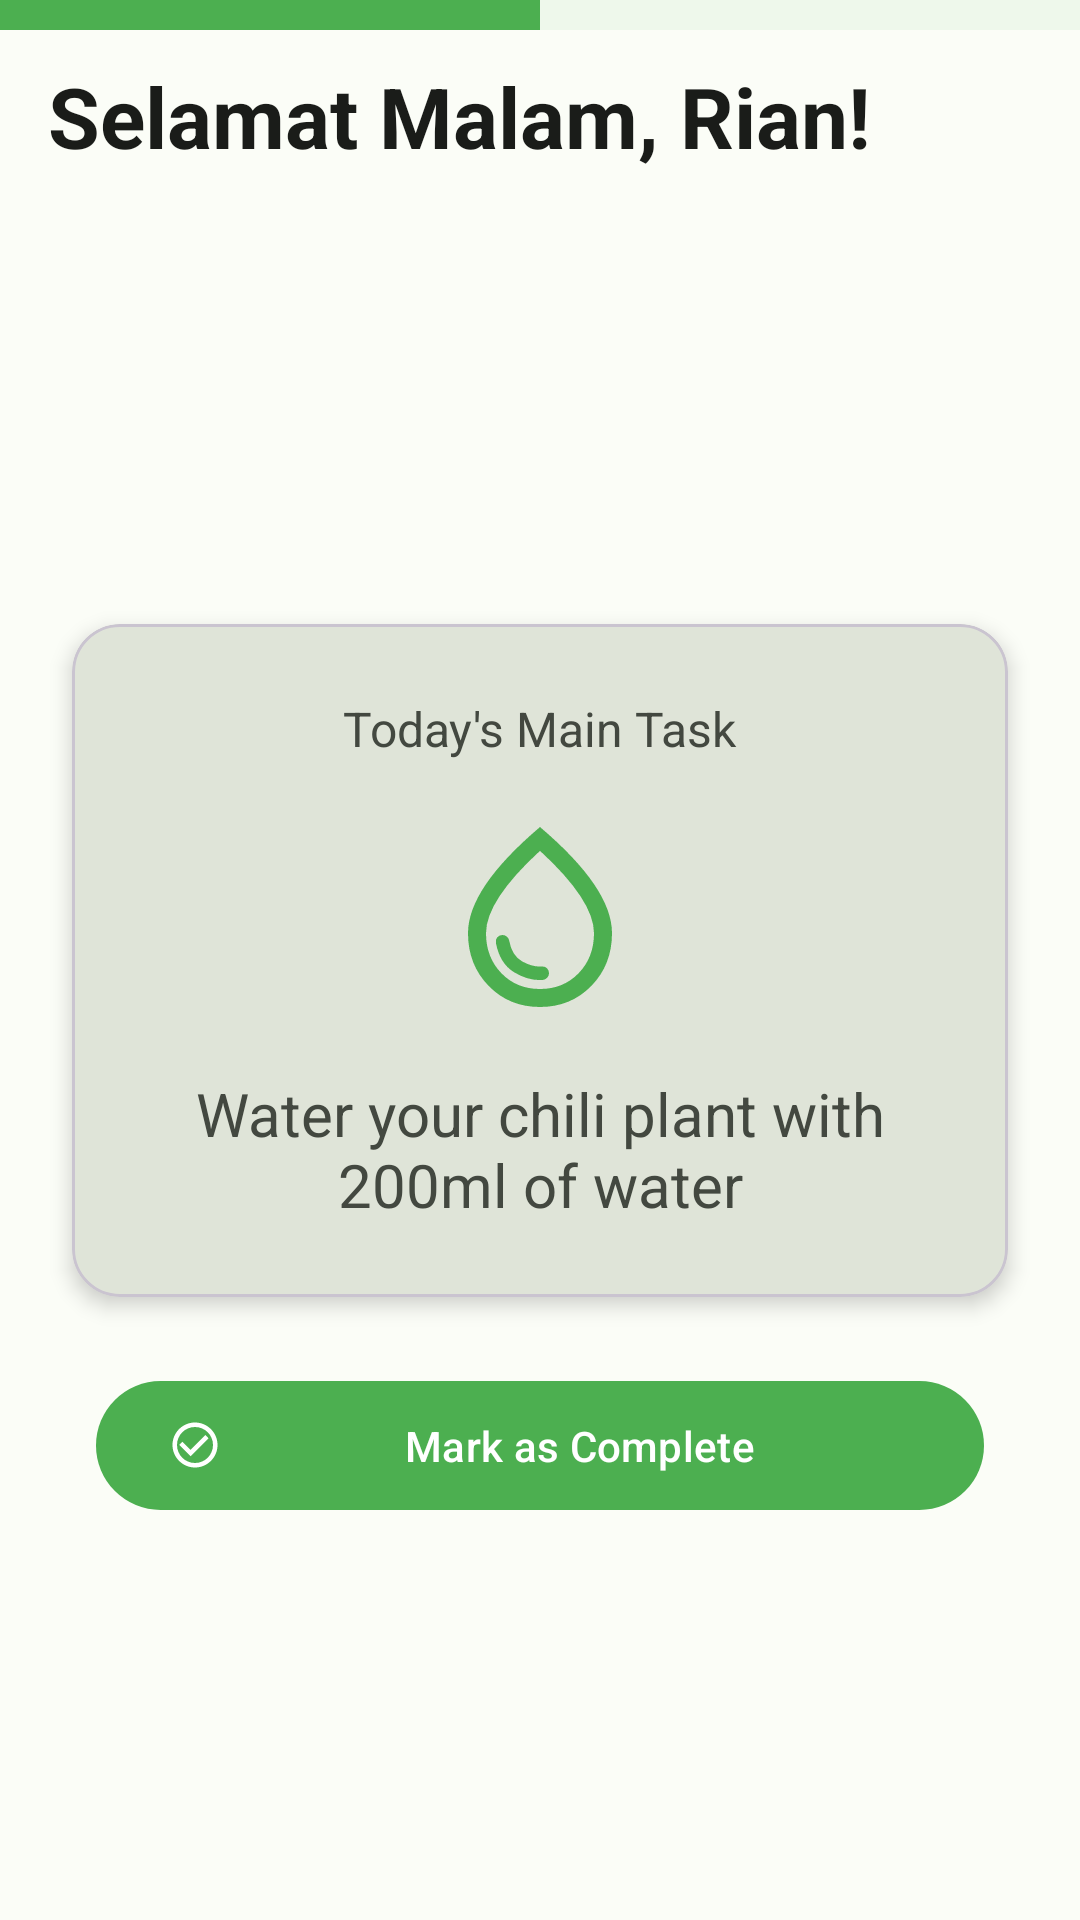

Icon click points for this 1080w x 1920h phone screenshot, format [x,y]:
water drop: [540,917]
